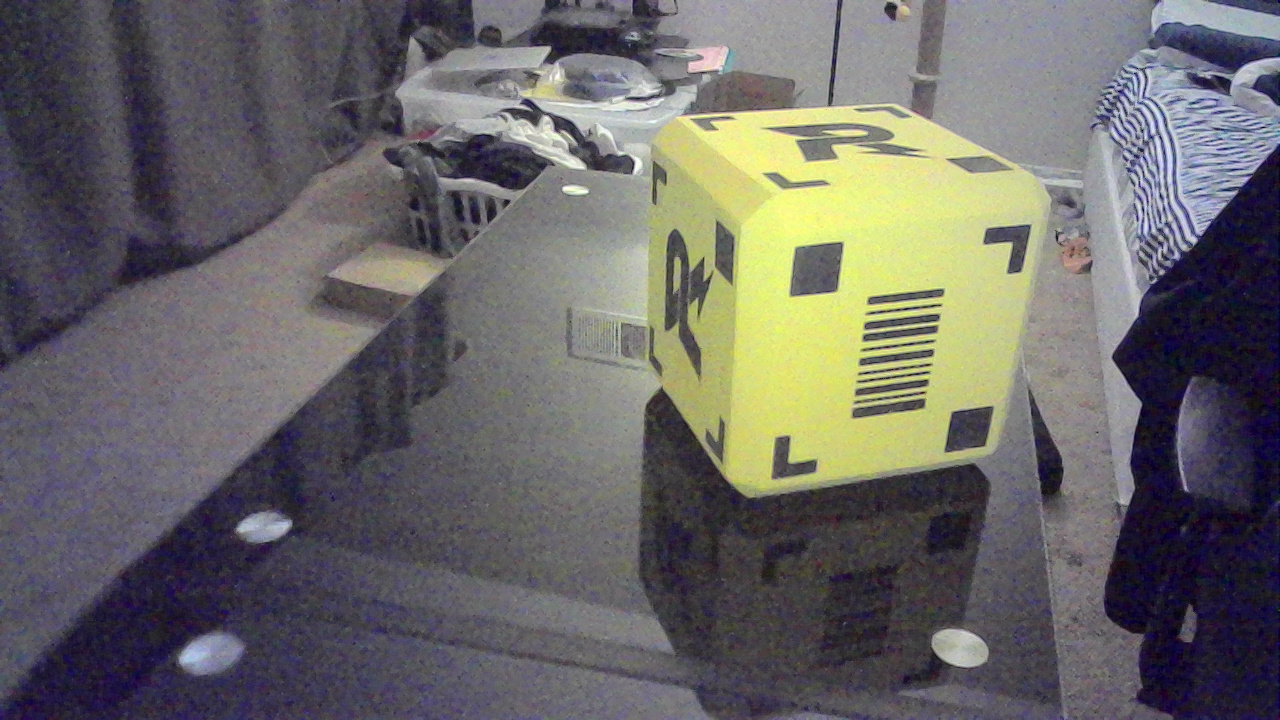Barcode: (854, 290, 957, 427)
R: (775, 119, 928, 174), (665, 224, 716, 387)
